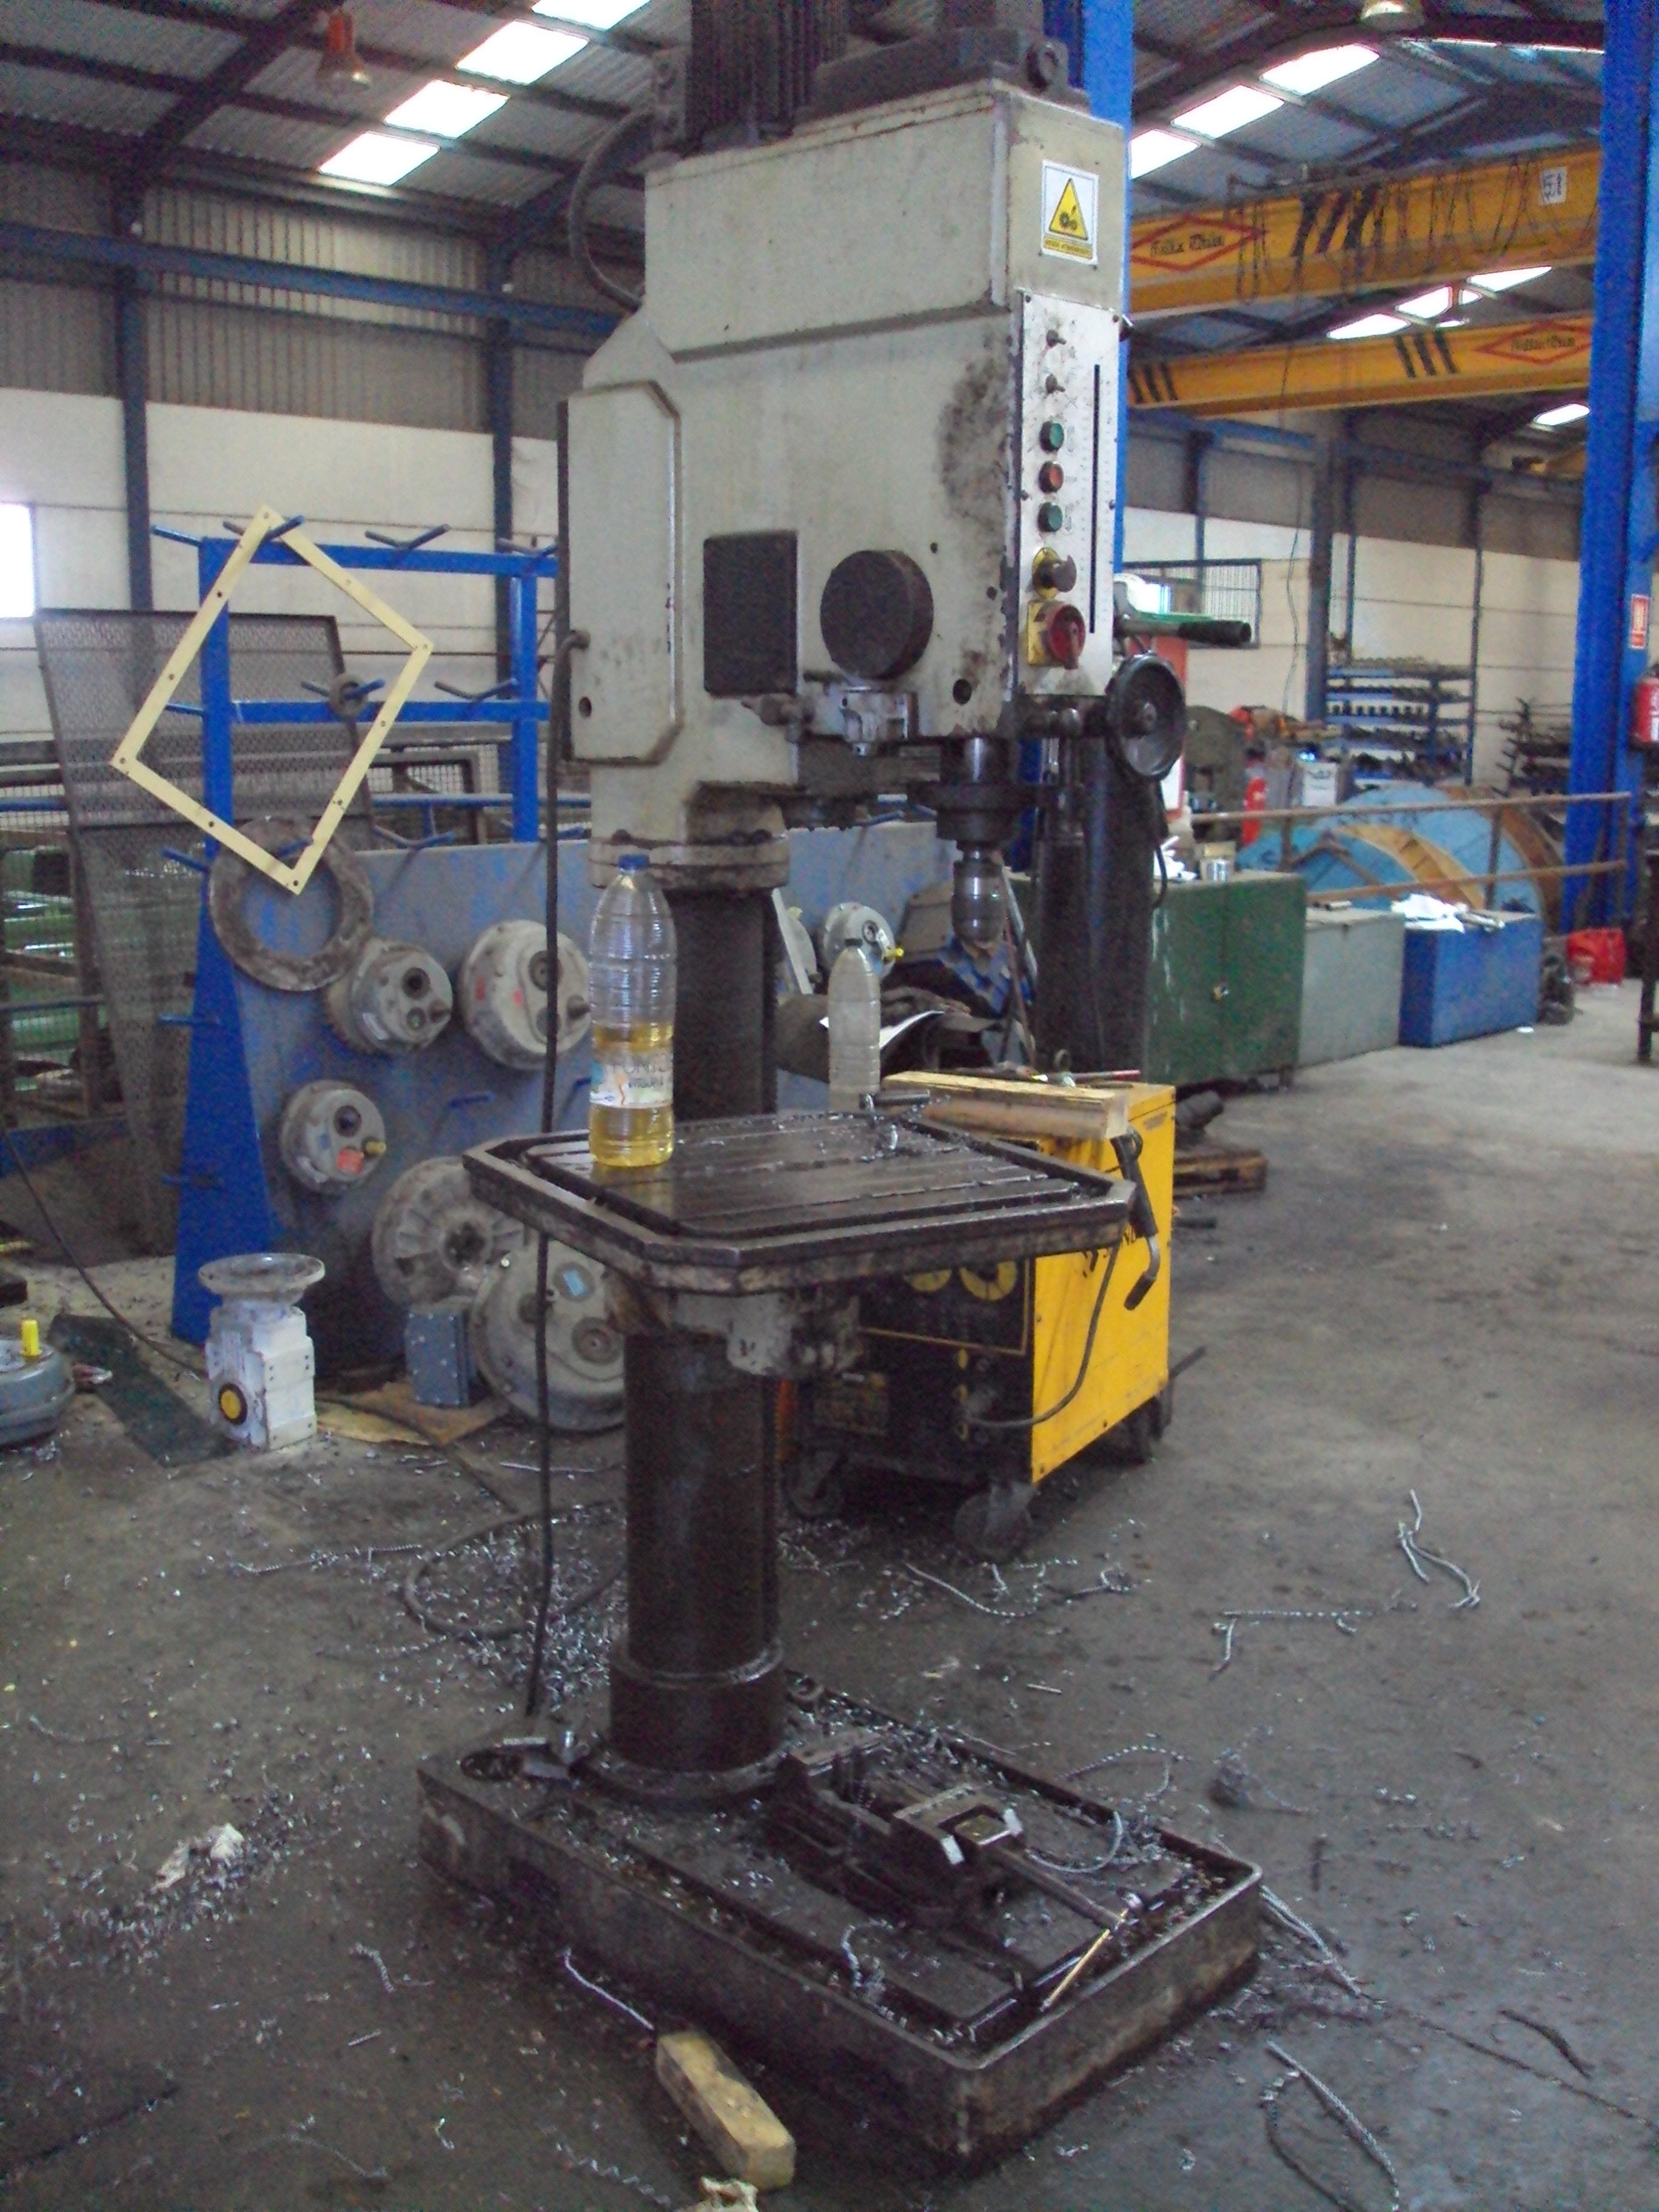falta_resguardo: (925, 712, 1037, 963)
mandos_inseguros: (1002, 284, 1134, 705)
